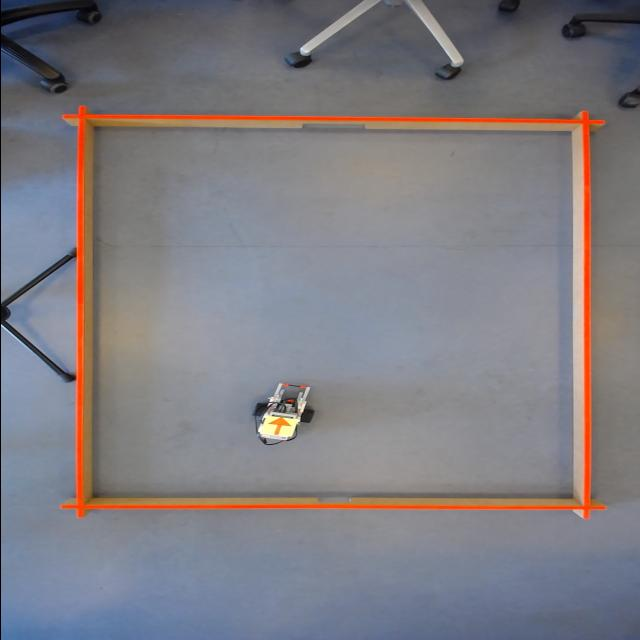robot: (257, 414, 300, 438)
